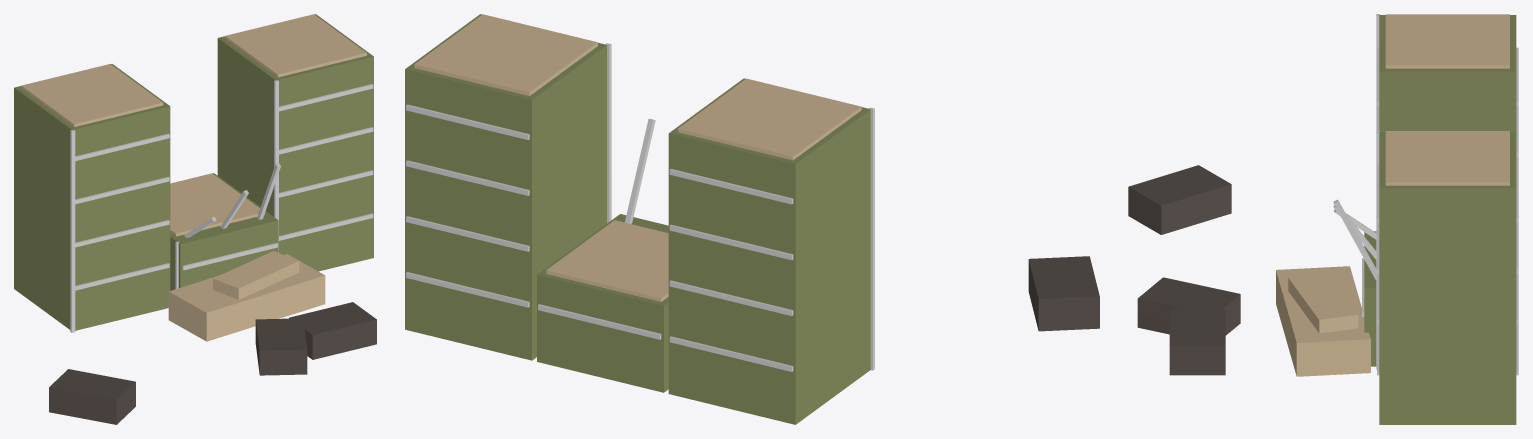
Rendered from SM_HescoCorto3_v2_Escalonado_e1_Danado_LOD0.fbx.
3 views of the same model, side by side, from view 1: azimuth 30°, elevation 25°; view 2: azimuth 150°, elevation 25°; view 3: azimuth 270°, elevation 25° (orthographic). The views are drawn at different scales.
Parts seen in each view (by area): view 1: SM_hesco_piezas_v89_LOD0; view 2: SM_hesco_piezas_v89_LOD0; view 3: SM_hesco_piezas_v89_LOD0.
Part boxes in pixels (x1,y1,x2,y2): SM_hesco_piezas_v89_LOD0: (14,14,376,424); SM_hesco_piezas_v89_LOD0: (405,14,1099,424); SM_hesco_piezas_v89_LOD0: (1128,14,1518,424).
Size of the model in its own units: 4.39 by 2.13 by 3.14.
